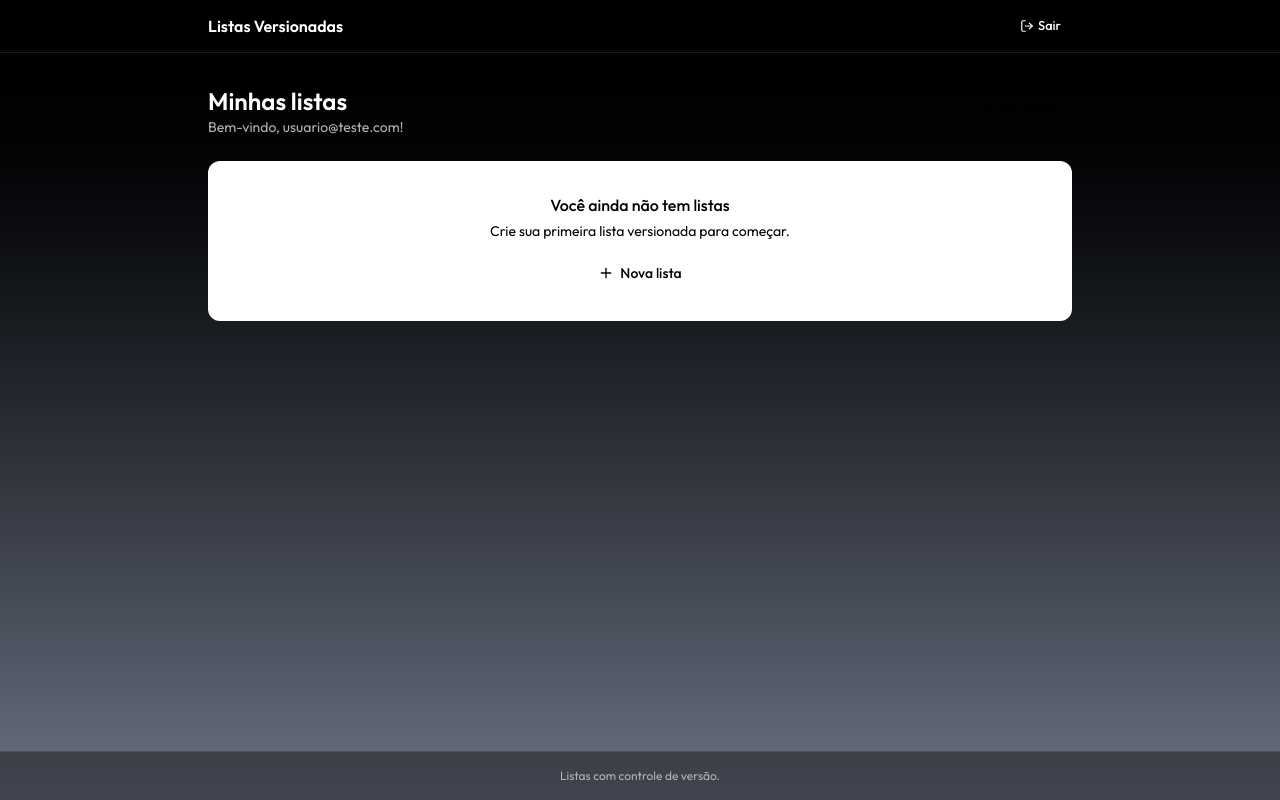
Test: Logout (frontend) › limpa a sessão e redireciona para o login ao sair
Click the button "Sair".
click(1041, 26)  # box [1009, 12, 1072, 40]
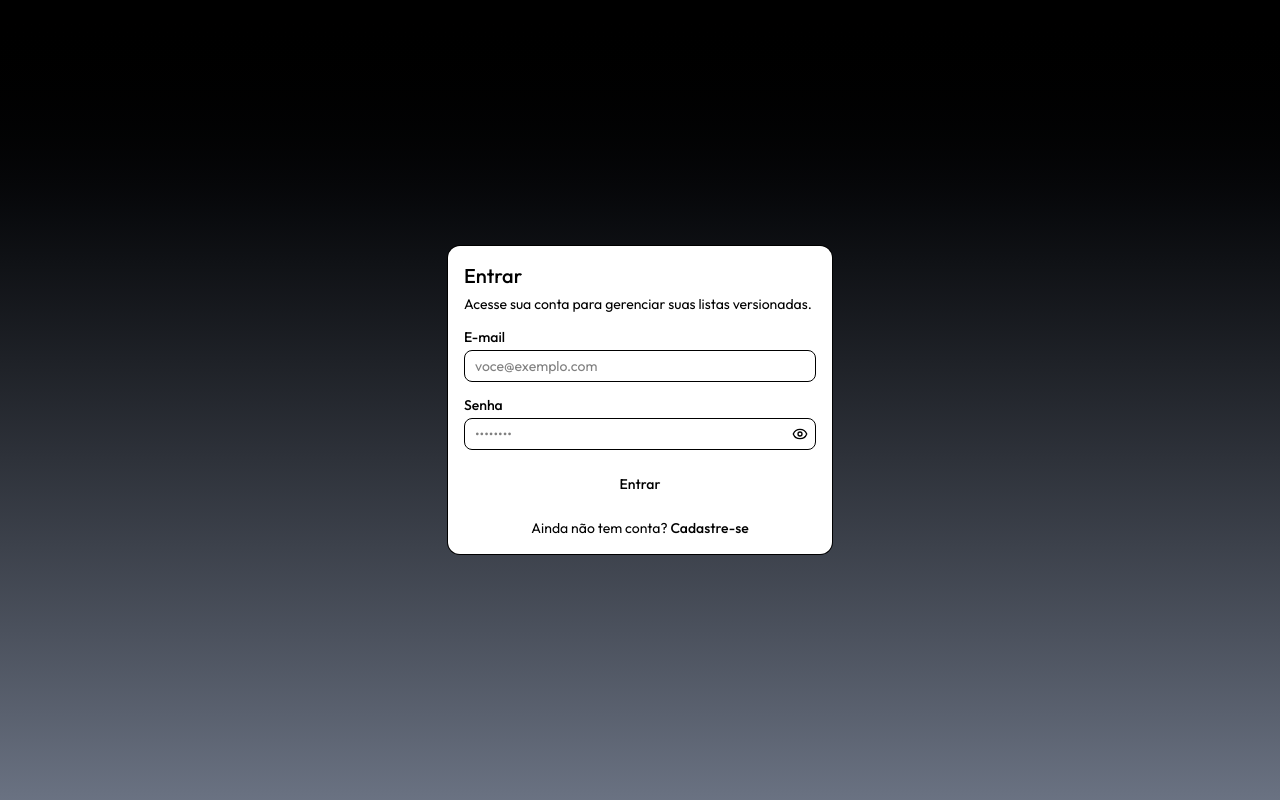
Check: the text "Entrar" is shown, box [464, 263, 522, 288]
